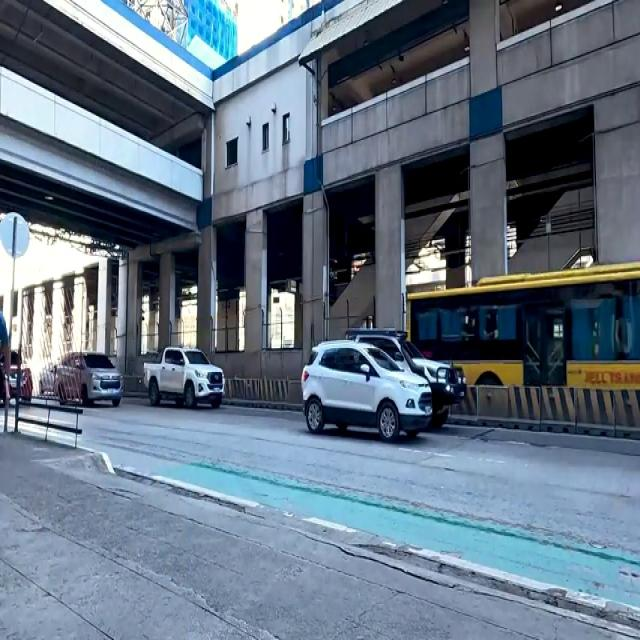bus: (399, 276, 640, 429)
car: (320, 333, 434, 447), (136, 337, 230, 411), (59, 351, 128, 418)
